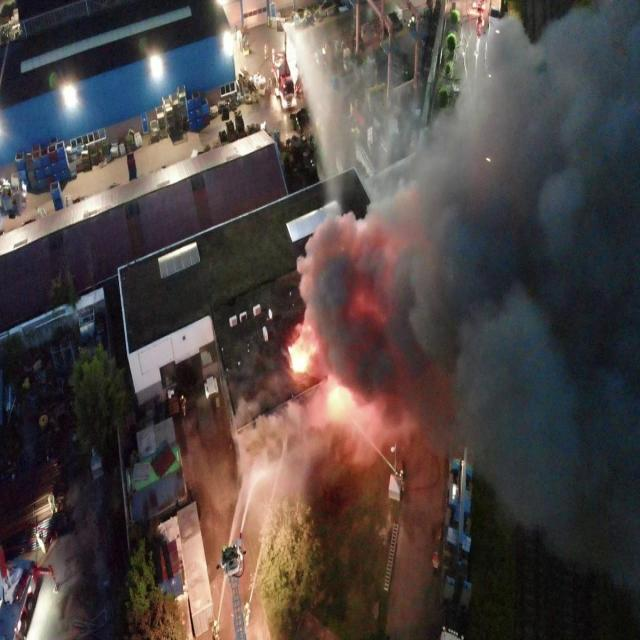Fire: (288, 340, 317, 372), (328, 385, 357, 415)
Smoke: (227, 0, 640, 599)
